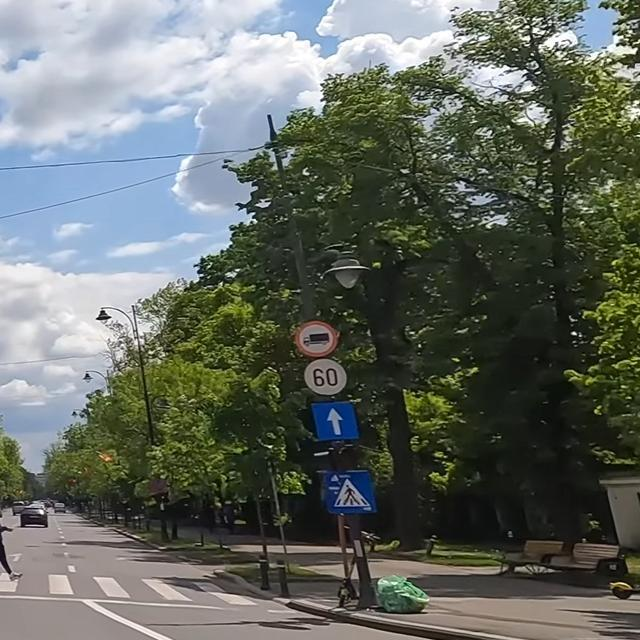forb_speed_over_60: (303, 359, 347, 397)
info_crosswalk: (324, 468, 378, 514)
